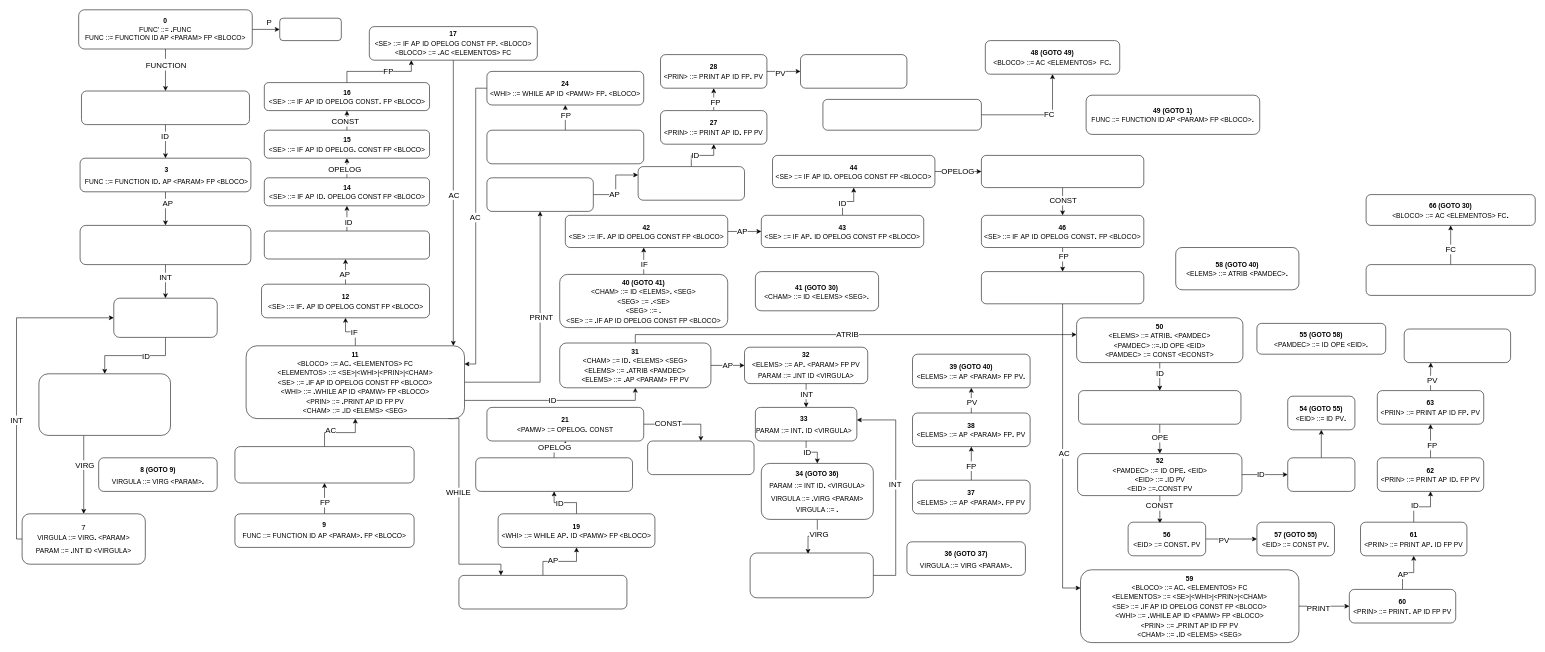
Image size: 1545x652. Some labels were removed from this diagram. Here are the shapes that lost their labels. From the top down, the centre of each, then its label:
(x=310, y=29): 1 FUNC' ::= FUNC .
(x=853, y=71): 29 (GOTO 30) <PRIN> ::= PRINT AP ID FP PV .
(x=165, y=107): 2 FUNC ::= FUNCTION . ID AP <PARAM> FP <BLOCO>
(x=901, y=114): 30 <BLOCO> ::= AC <ELEMENTOS> . FC
(x=565, y=147): 23 <WHI> ::= WHILE AP ID <PAMW> . FP <BLOCO>
(x=691, y=183): 26 <PRIN> ::= PRINT AP . ID FP PV
(x=1062, y=171): 45 <SE> ::= IF AP ID OPELOG . CONST FP <BLOCO>
(x=539, y=194): 25 <PRIN> ::= PRINT . AP ID FP PV
(x=165, y=245): 4 FUNC ::= FUNCTION ID AP . <PARAM> FP <BLOCO> PARAM ::= . INT ID <VIRGULA>
(x=347, y=244): 13 <SE> ::= IF AP . ID OPELOG CONST FP <BLOCO>
(x=1062, y=287): 47 <SE> ::= IF AP ID OPELOG CONST FP . <BLOCO> <BLOCO> ::= . AC <ELEMENTOS> FC
(x=1450, y=279): 65 <BLOCO> ::= AC <ELEMENTOS> . FC
(x=165, y=317): 5 PARAM ::= INT . ID <VIRGULA>
(x=1457, y=345): 64 (GOTO 65) <PRIN> ::= PRINT AP ID FP PV .
(x=104, y=404): 6 GOTO (8) PARAM ::= INT ID . <VIRGULA> VIRGULA ::= . VIRG <PARAM> VIRGULA ::= .
(x=1159, y=407): 51 <PAMDEC> ::= ID . OPE <EID>
(x=324, y=464): 10 FUNC ::= FUNCTION ID AP <PARAM> FP . <BLOCO> <BLOCO> ::= . AC <ELEMENTOS> FC
(x=554, y=474): 20 <WHI> ::= WHILE AP ID . <PAMW> FP <BLOCO> <PAMW> ::= . OPELOG CONST
(x=700, y=457): 22 GOTO(23) <PAMW> ::= OPELOG CONST .
(x=1321, y=474): 53 <EID> ::= ID . PV
(x=542, y=592): 18 <WHI> ::= WHILE . AP ID <PAMW> FP <BLOCO>
(x=811, y=575): 35 VIRGULA ::= VIRG . <PARAM> PARAM ::= . INT ID <VIRGULA>
